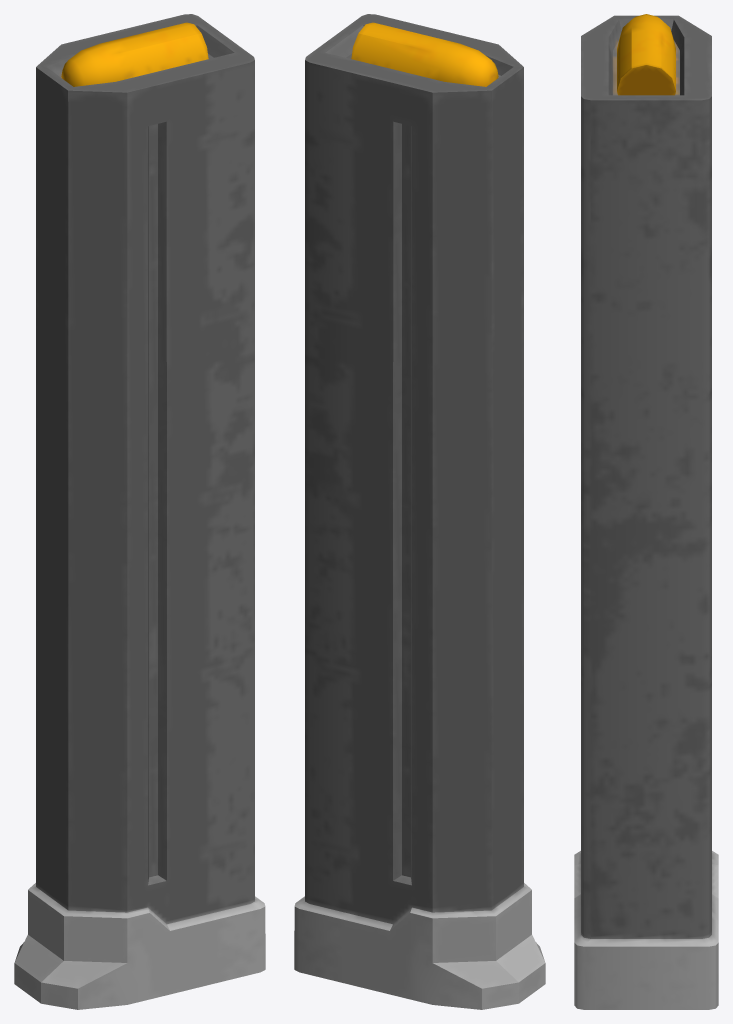
Rendered from Gun_SMG_Ammo.gltf.
3 renders of one model, left to right at view 1: azimuth 30°, elevation 25°; view 2: azimuth 150°, elevation 25°; view 3: azimuth 270°, elevation 25°, orthographic.
Visible parts, largest first — view 1: Gun_SMG_Ammo; view 2: Gun_SMG_Ammo; view 3: Gun_SMG_Ammo.
Boxes of the visible parts, left/top/right/bottom form: Gun_SMG_Ammo: left=14, top=14, right=265, bottom=1009; Gun_SMG_Ammo: left=294, top=14, right=545, bottom=1009; Gun_SMG_Ammo: left=574, top=14, right=718, bottom=1009.
Size of the model in its own units: 0.0642 by 0.2772 by 0.0391.
Materials: 1 (1 with a texture image).
